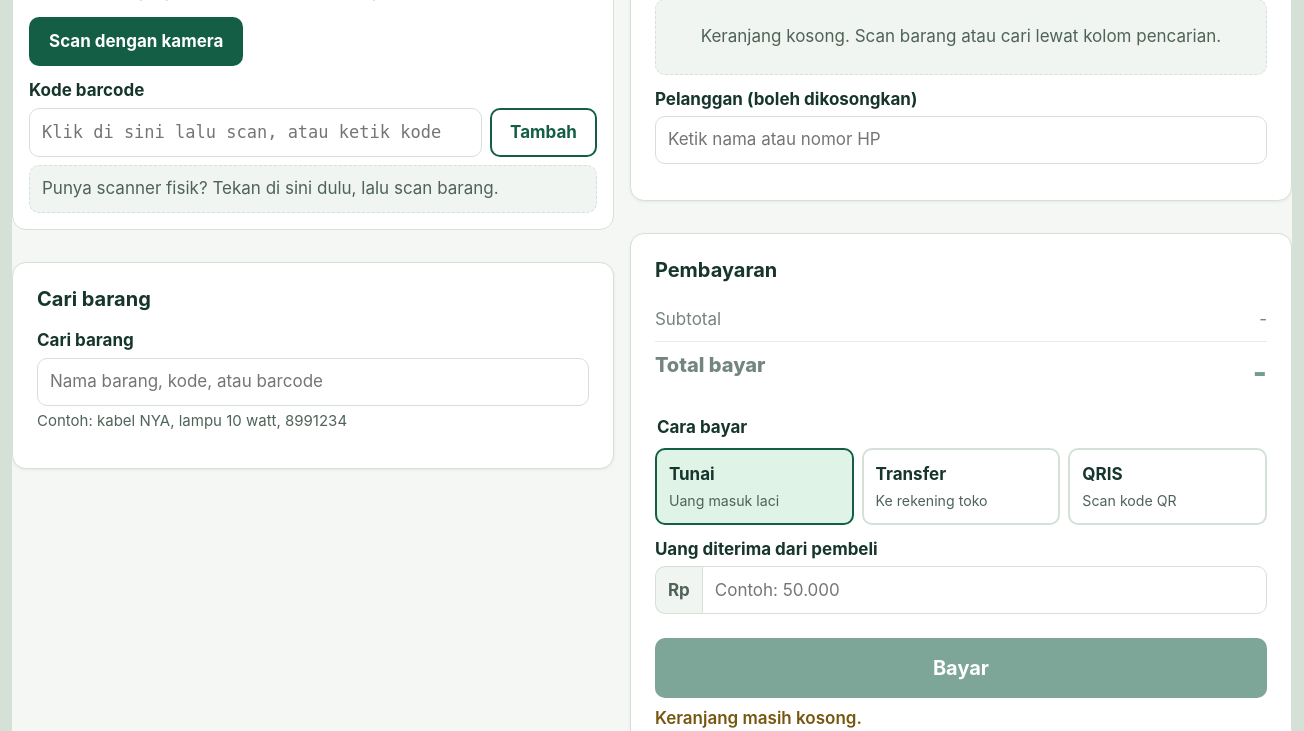
Test: kasir › tunai: uang kurang memblokir tombol bayar
Type "lampu" into the search field labelled "Cari barang".
click(313, 382); type("lampu")  # box [37,358,589,406]
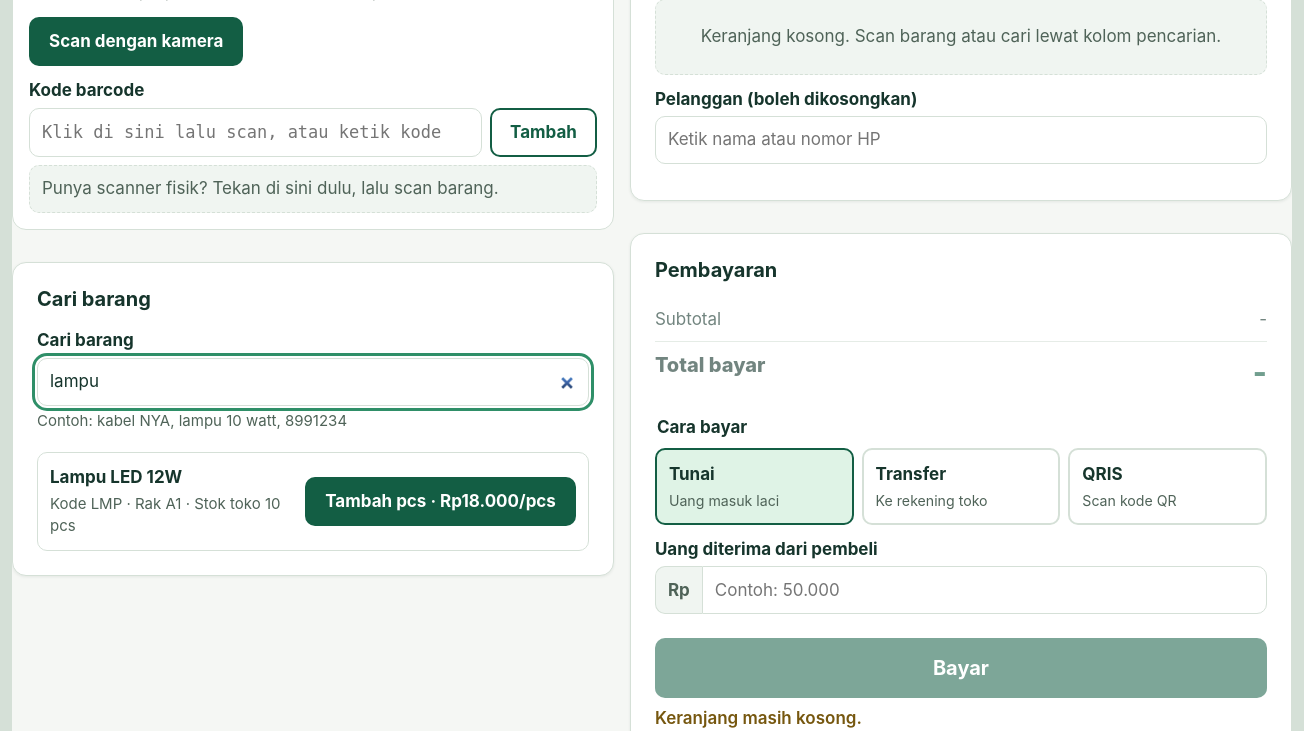
Click the button "Tambah pcs · Rp18.000/pcs".
click(441, 501)  # box [305,476,576,526]
(page scrolled)
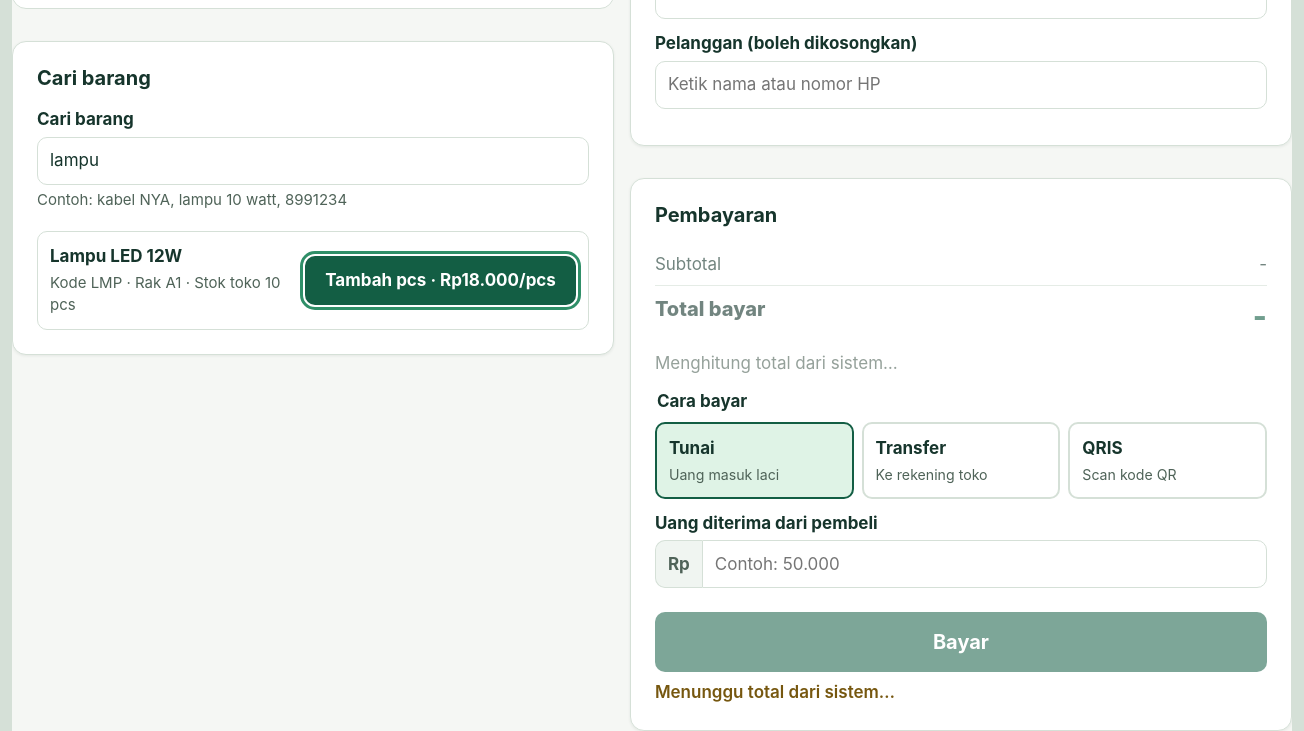
Type "10.000" into the field labelled "Uang diterima dari pembeli".
click(984, 564); type("10.000")  # box [702,540,1267,588]
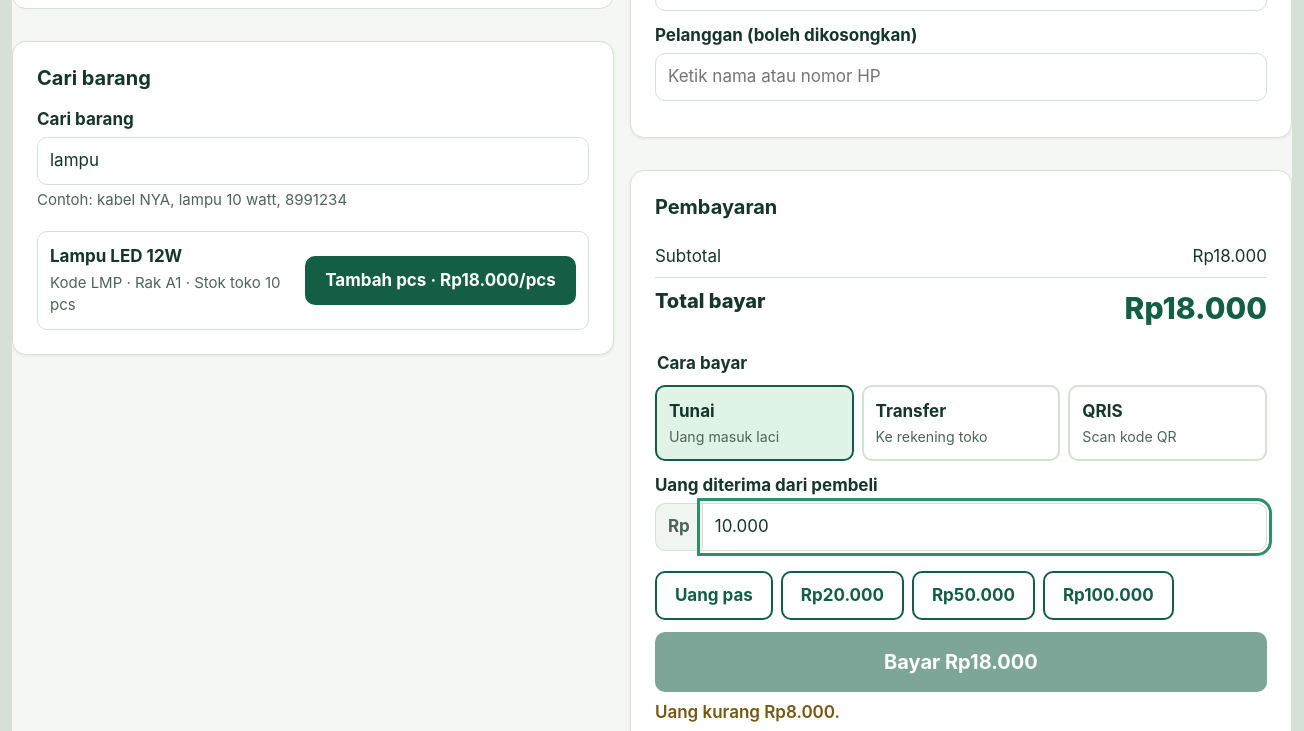
Check: the button "Bayar Rp18.000" is disabled, box [655,632,1267,692]
Check: the text "Uang kurang Rp8.000." is shown, box [655,702,840,722]
